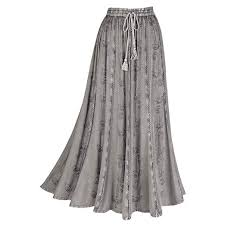C_skirt: (37, 6, 189, 223)
